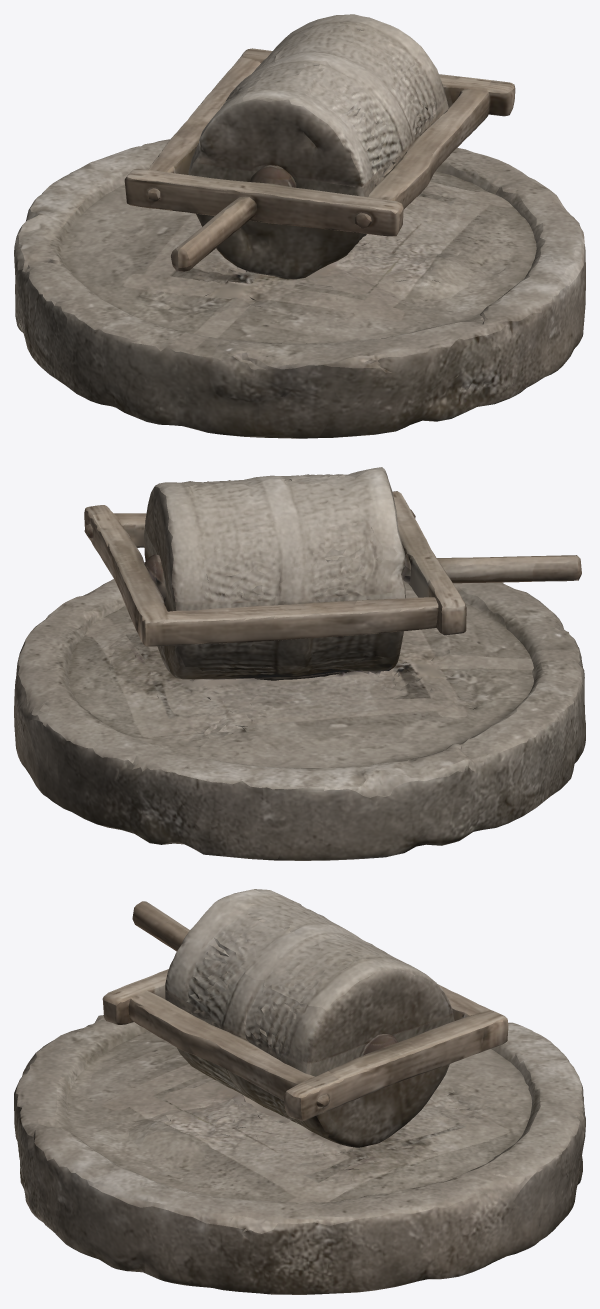
The model's file is mill.glb.
The picture shows the model from 3 angles, top to bottom: view 1: azimuth 30°, elevation 25°; view 2: azimuth 150°, elevation 25°; view 3: azimuth 270°, elevation 25°; orthographic projection.
Parts seen in each view (by area): view 1: geometry_0; view 2: geometry_0; view 3: geometry_0.
Boxes of the visible parts, box(x1,y1,x2,y2) form: geometry_0: box(14, 14, 585, 438); geometry_0: box(14, 467, 585, 860); geometry_0: box(14, 889, 585, 1294).
Bounding box in the file's own units: 0.6 × 0.3009 × 0.5993.
1 material, 1 textured.
